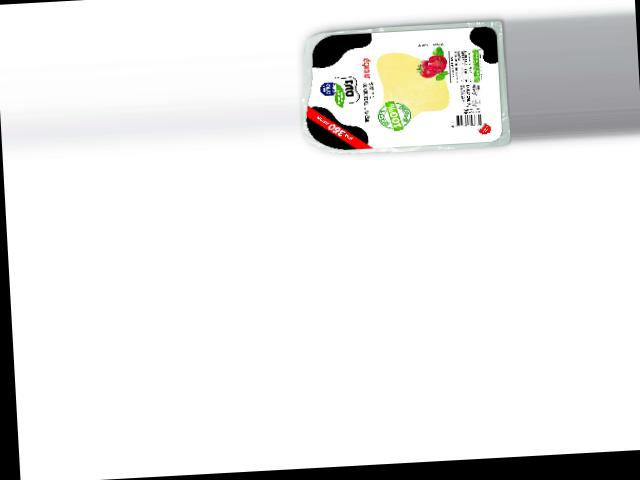cheese: (294, 20, 510, 157)
